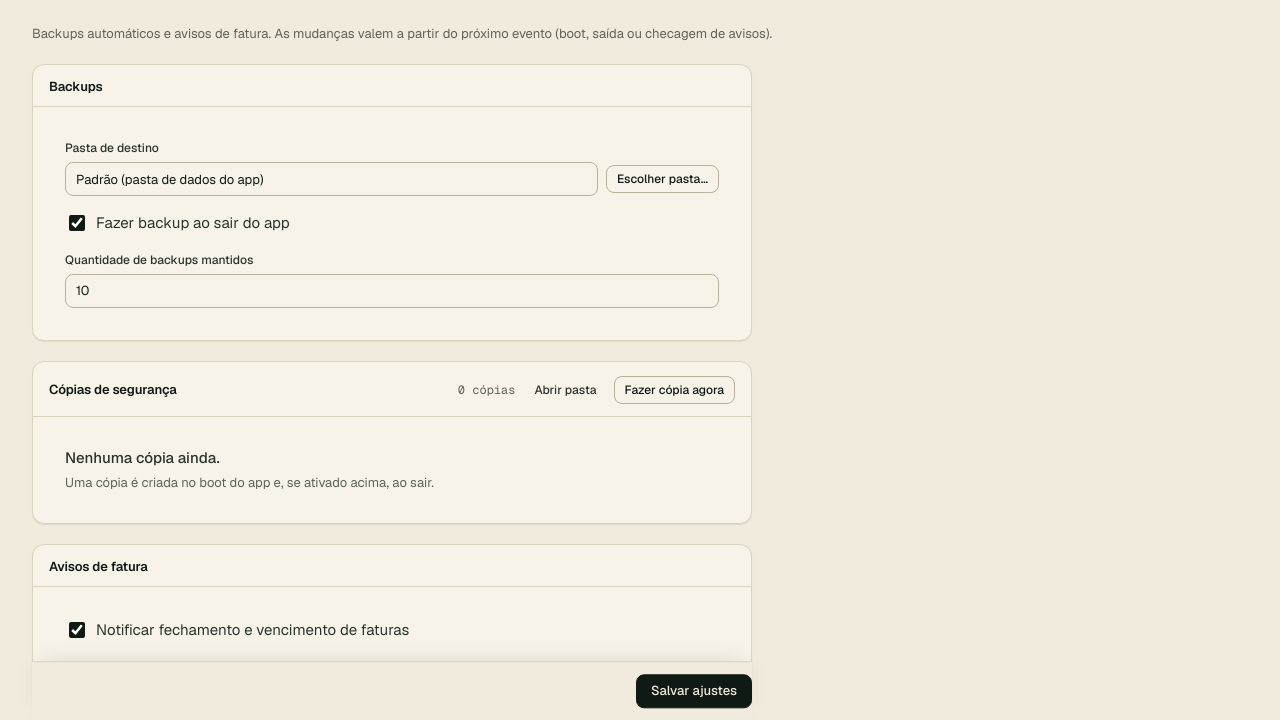
it: AjustesPage › avisa que ha alteracoes nao salvas ao editar, e o aviso some ao salvar
Step 1. Replace the text in the number field labelled "Quantidade de backups mantidos" with "30" → (392, 291), box [65,274,719,308]
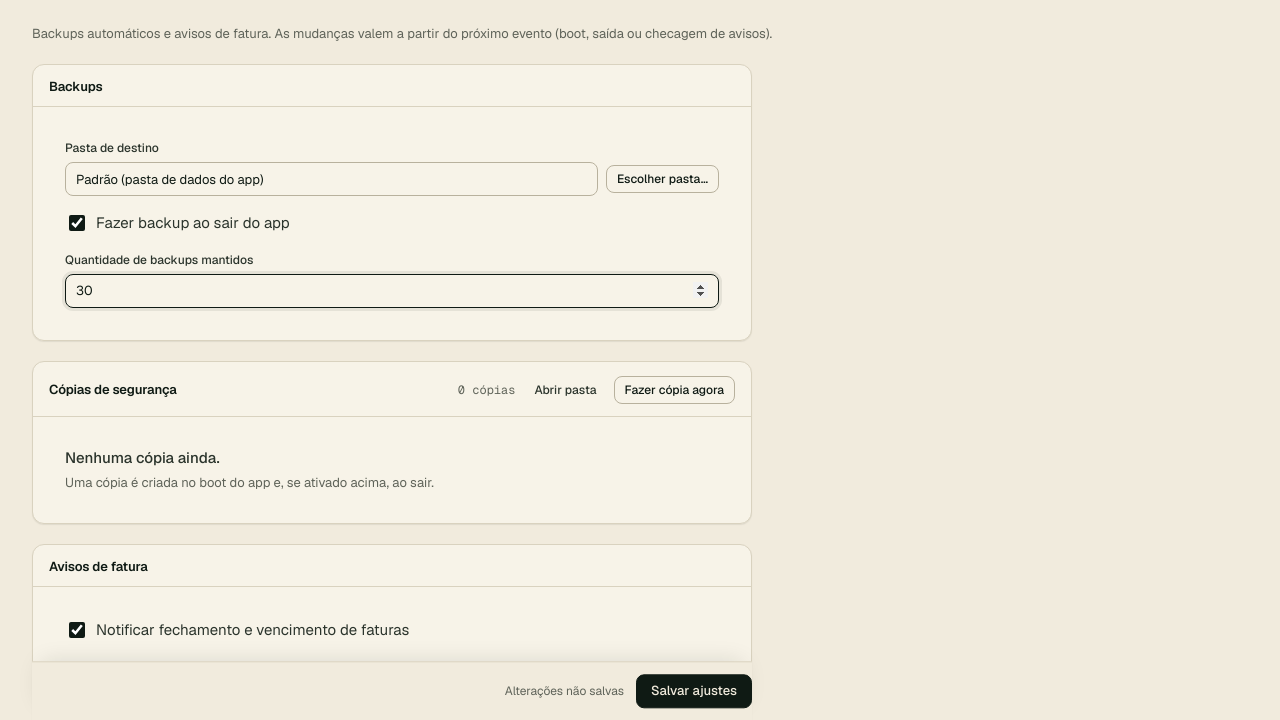
Check: the text "Alterações não salvas" is shown, box [505,682,624,700]
Step 2. Click the button "Salvar ajustes" → click(694, 691), box [636,674,752,708]
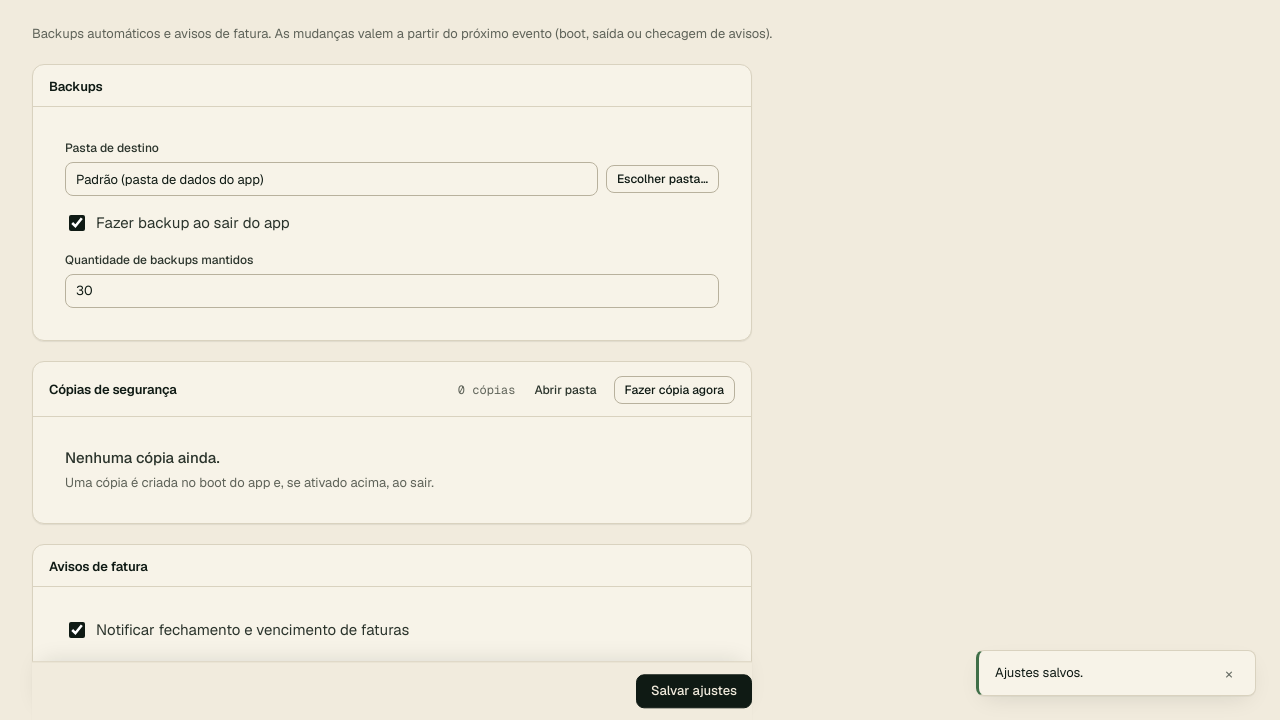
Check: the text "Ajustes salvos." is shown, box [995,664,1083,681]
Check: the text "Alterações não salvas" is gone
